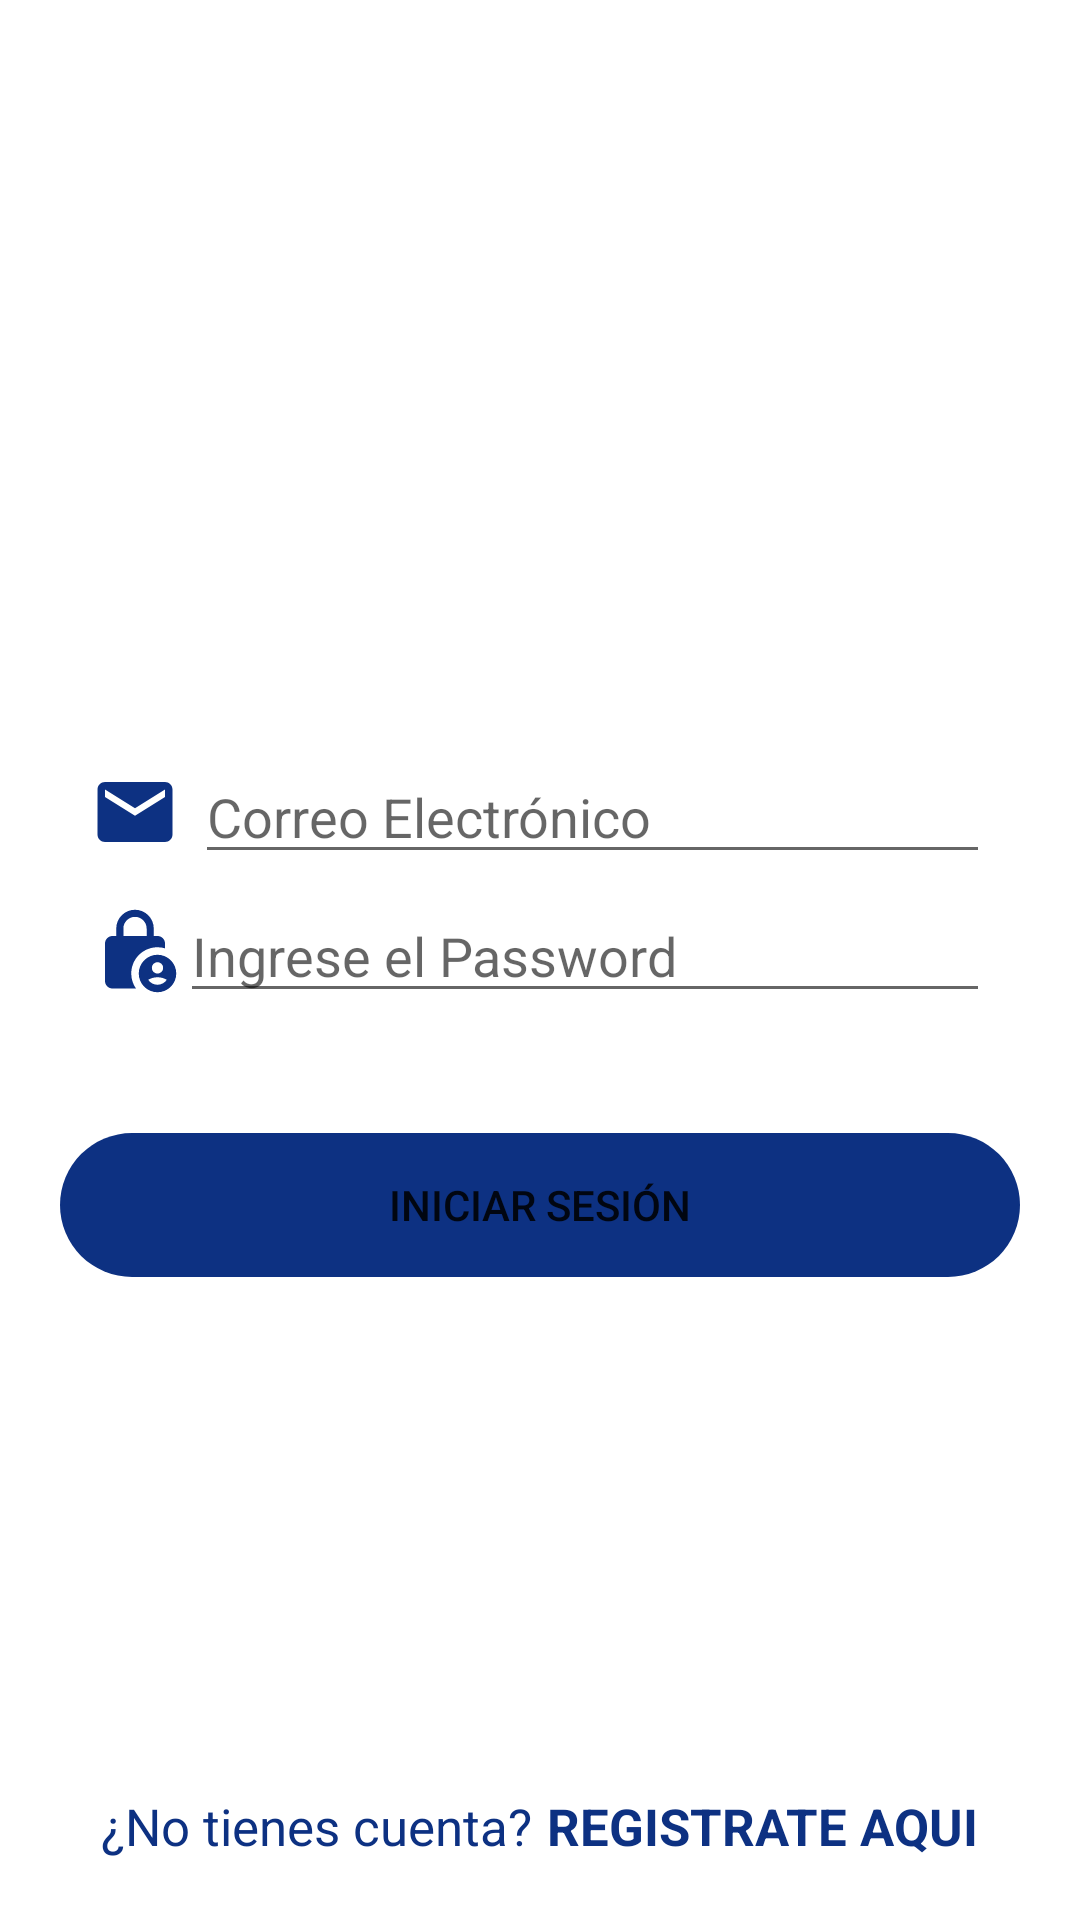

Icon click points for this 1080px x 1920px phone screenshot, format [x,y]:
email: [135,812]
